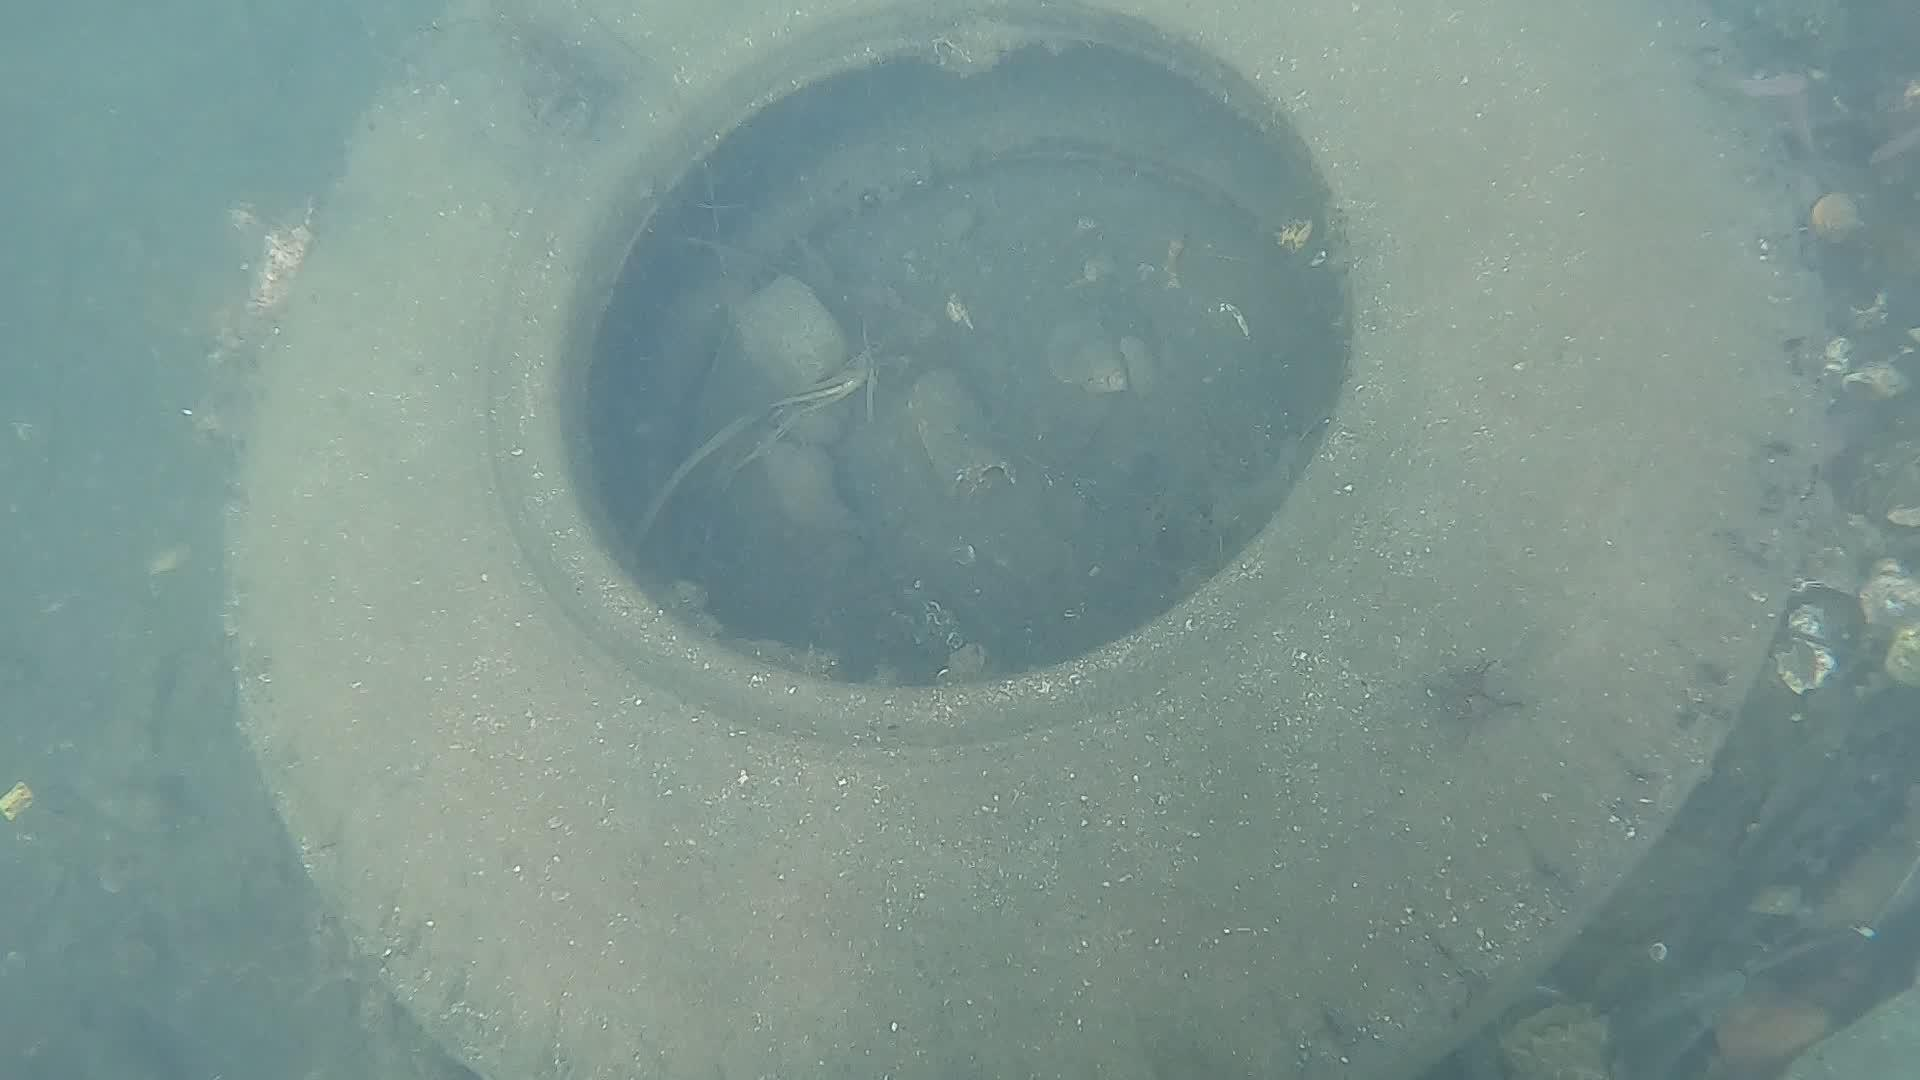tire: (225, 15, 1821, 1080)
